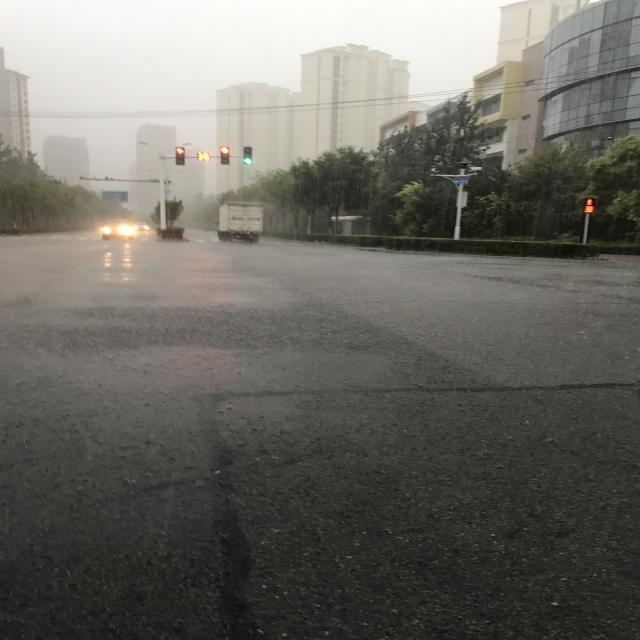car: (220, 507, 239, 539)
